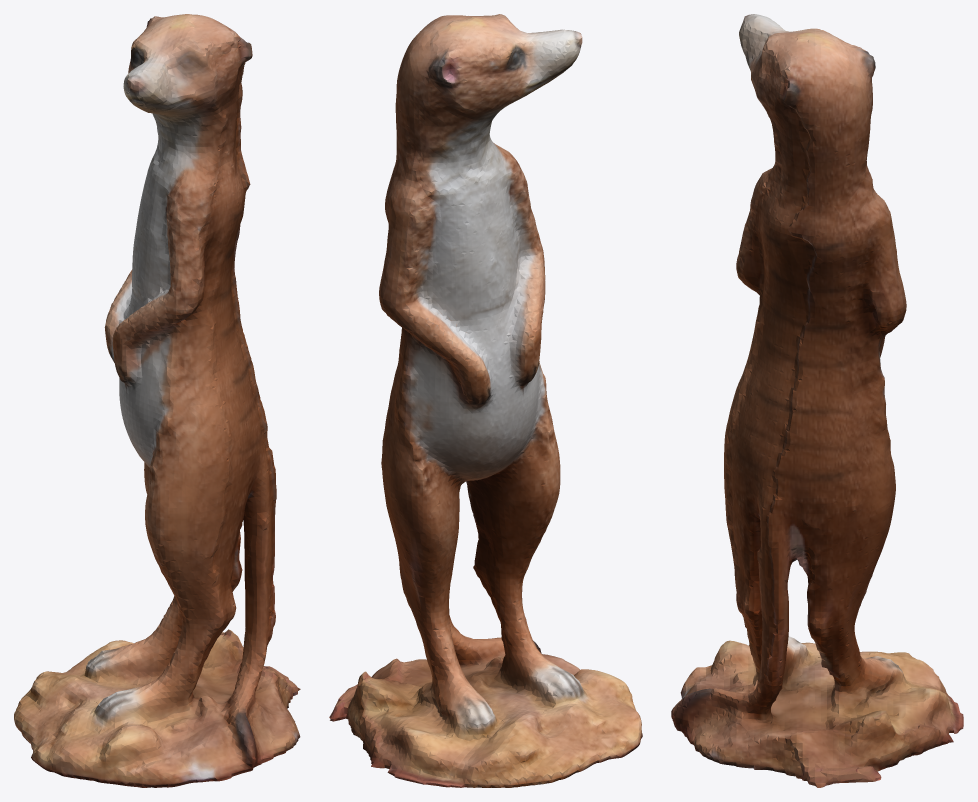
The model's file is meerkat.fbx.
3 views of the same model, side by side, from view 1: azimuth 30°, elevation 25°; view 2: azimuth 150°, elevation 25°; view 3: azimuth 270°, elevation 25° (orthographic).
Visible parts, largest first — view 1: meerkat_RCFINAL; view 2: meerkat_RCFINAL; view 3: meerkat_RCFINAL.
Part boxes in pixels (x1=…): meerkat_RCFINAL: x1=14, y1=14, x2=300, y2=787; meerkat_RCFINAL: x1=329, y1=14, x2=642, y2=787; meerkat_RCFINAL: x1=671, y1=14, x2=963, y2=787.
Bounding box in the file's own units: 62.71 × 152 × 58.12.
